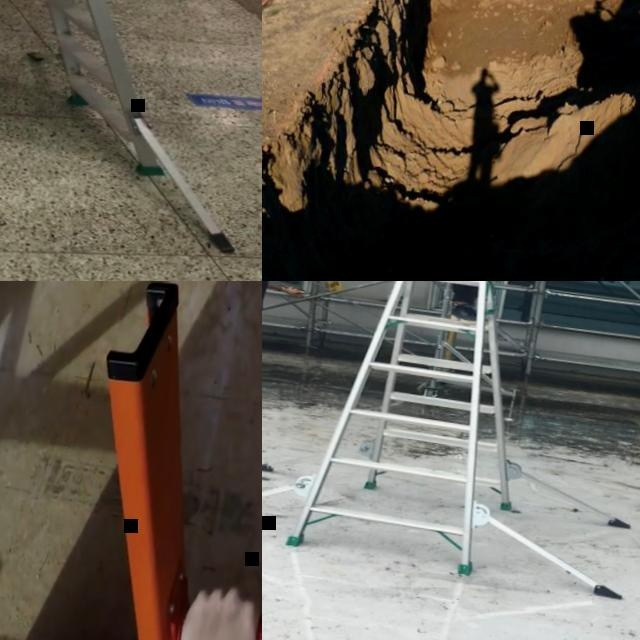Person: (95, 574, 262, 640), (372, 281, 555, 332), (262, 281, 311, 400)
